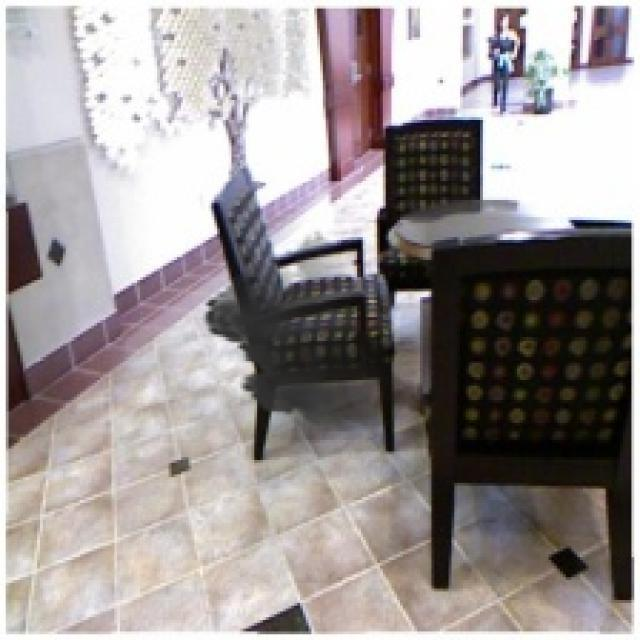Smoke: (194, 228, 429, 432)
